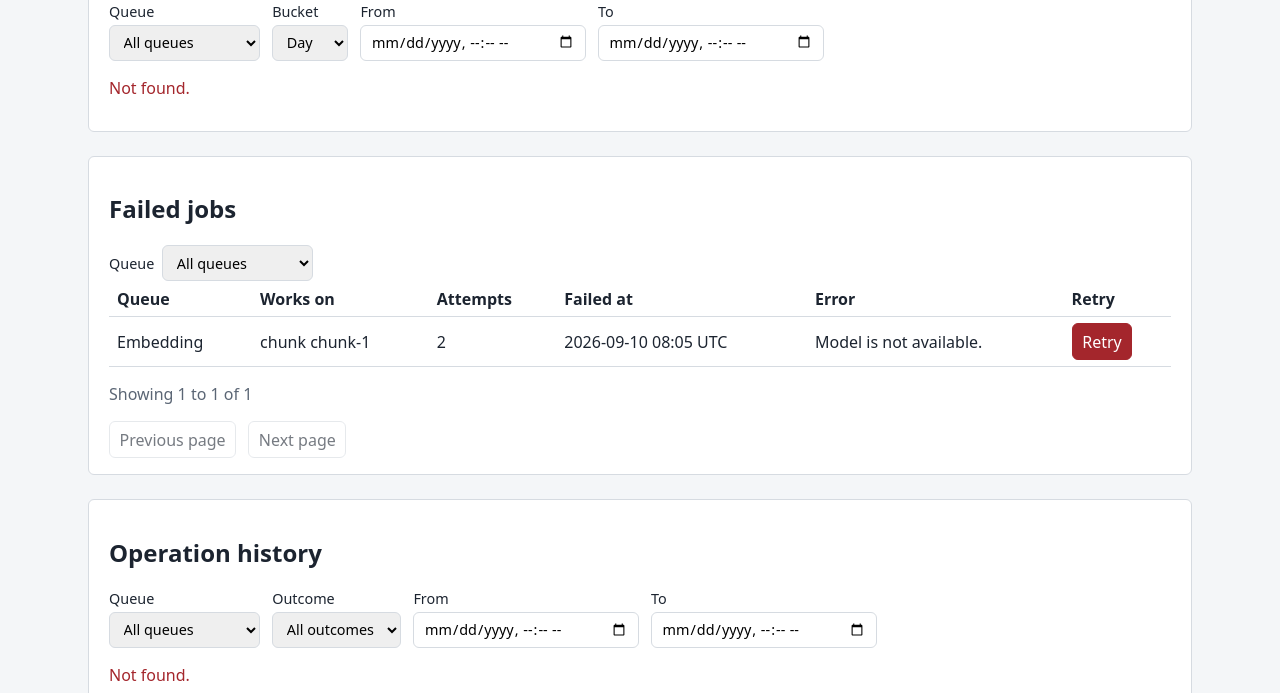
failed job recovery › retries a job after confirmation and reloads
(page scrolled)
Click the button "Retry": (1102, 342) x1=1072 y1=323 x2=1132 y2=360
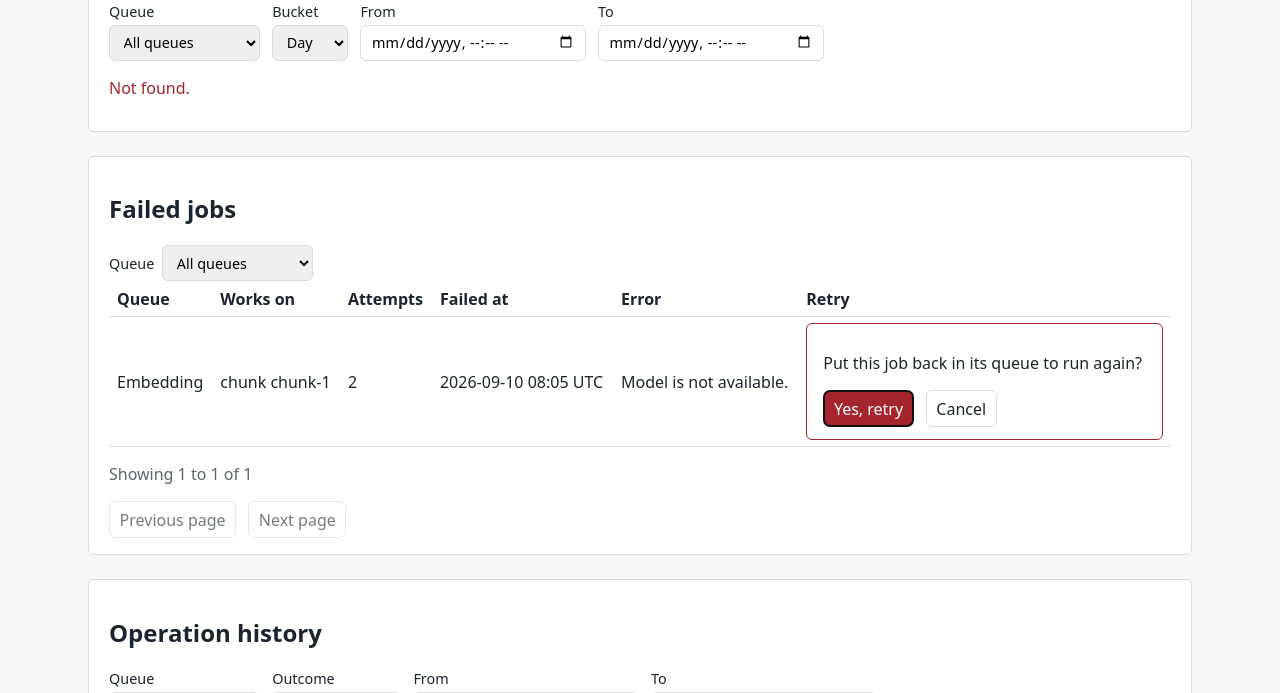
Click the button "Yes, retry": (868, 409) x1=823 y1=390 x2=914 y2=427
(page scrolled)
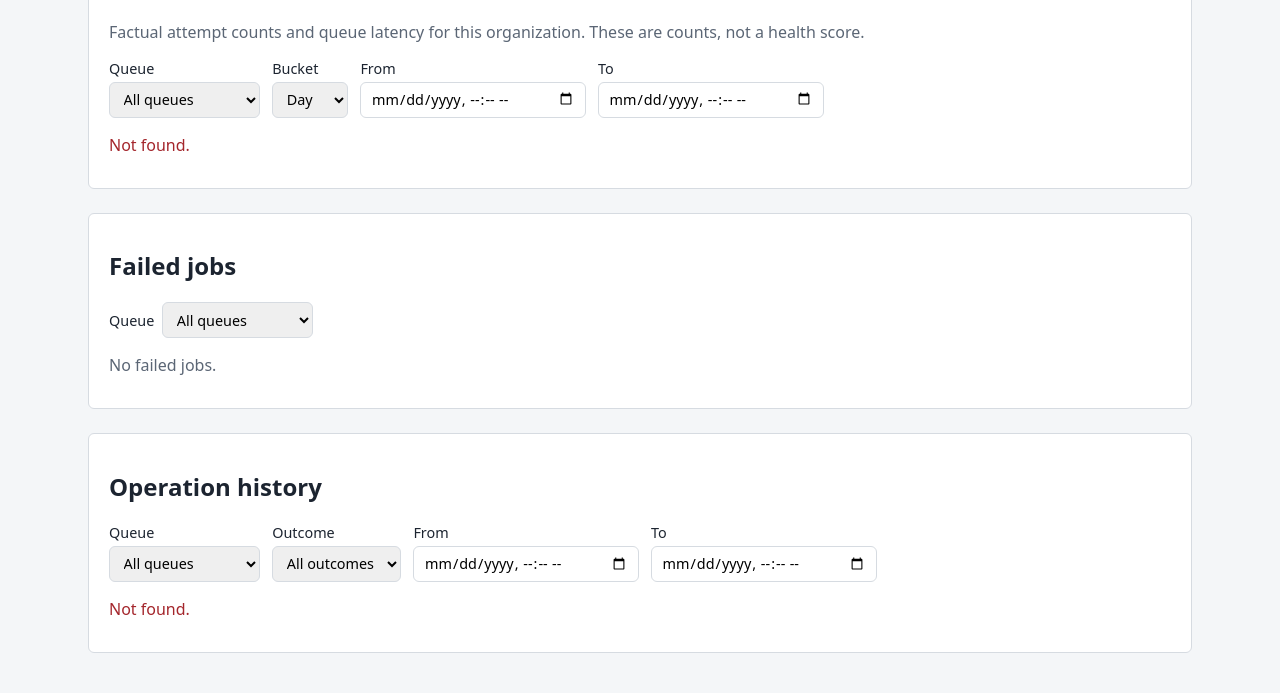
Expected: the text "Model is not available." is gone
Expected: the text "No failed jobs." is shown, x1=109 y1=354 x2=216 y2=376
